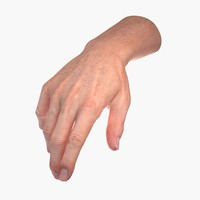finger: (57, 97, 98, 184), (50, 99, 75, 182), (40, 90, 62, 153), (32, 84, 49, 128)
